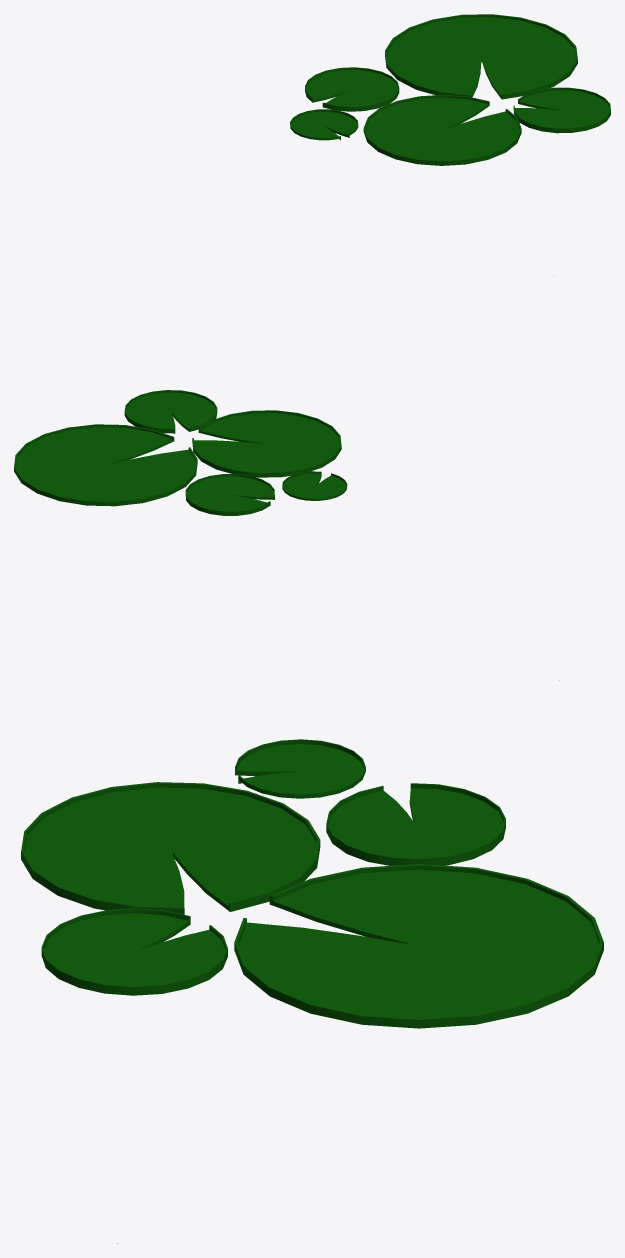
File: lily_pad_2.glb
The picture shows the model from 3 angles, top to bottom: view 1: azimuth 30°, elevation 25°; view 2: azimuth 150°, elevation 25°; view 3: azimuth 270°, elevation 25°; orthographic projection. The views are drawn at different scales.
Parts seen in each view (by area): view 1: Object_2.033; view 2: Object_2.033; view 3: Object_2.033.
Boxes of the visible parts, <box> form: Object_2.033: <box>290,14,610,276</box>; Object_2.033: <box>14,390,347,515</box>; Object_2.033: <box>21,739,603,1243</box>.
Bounding box in the file's own units: 8.76 × 2.32 × 3.98.
1 material, 1 textured.
